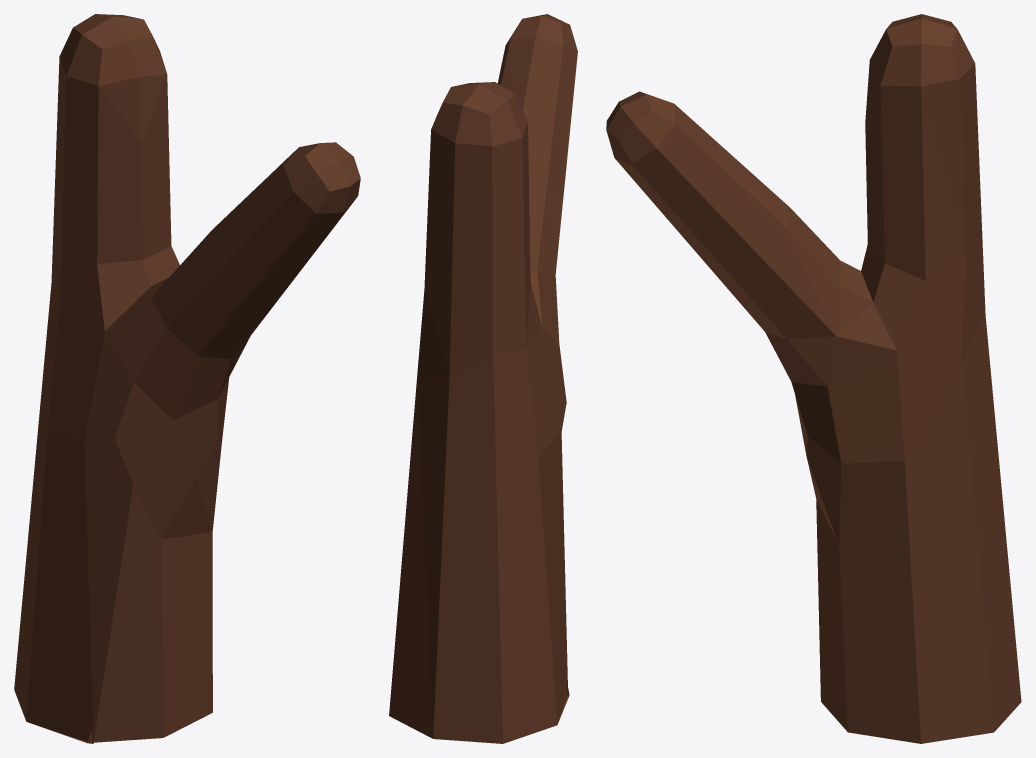
File: 1Stad.fbx
The picture shows the model from 3 angles, left to right: view 1: azimuth 30°, elevation 25°; view 2: azimuth 150°, elevation 25°; view 3: azimuth 270°, elevation 25°; orthographic projection. The views are drawn at different scales.
Visible parts, largest first — view 1: Cube.032; view 2: Cube.032; view 3: Cube.032.
Boxes of the visible parts, x1,y1,x2,y2 form: Cube.032: (14,14,360,743); Cube.032: (389,14,577,743); Cube.032: (606,14,1021,743).
Bounding box in the file's own units: 13.67 × 47.04 × 25.89.
